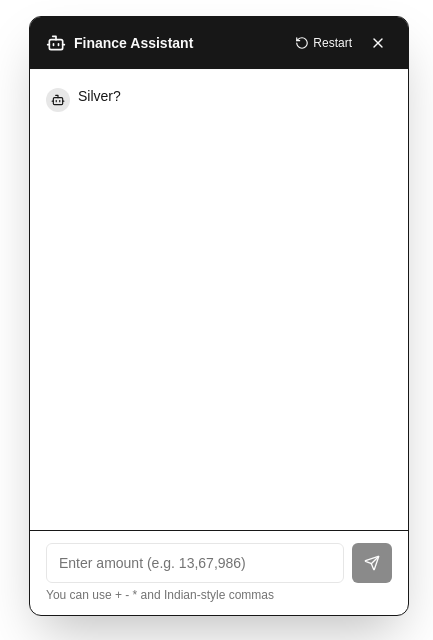
Scenario: FinanceAssistantChat US Stocks and Bonds steps › asks about US Stocks after Silver, then moves on to Mutual Funds
Expected: the text "Silver?" is shown, left=78, top=88, right=121, bottom=104
Type "50,000" into the field with placeholder "Enter amount (e.g. 13,67,986)".
click(195, 563); type("50,000")  # box left=46, top=543, right=344, bottom=583
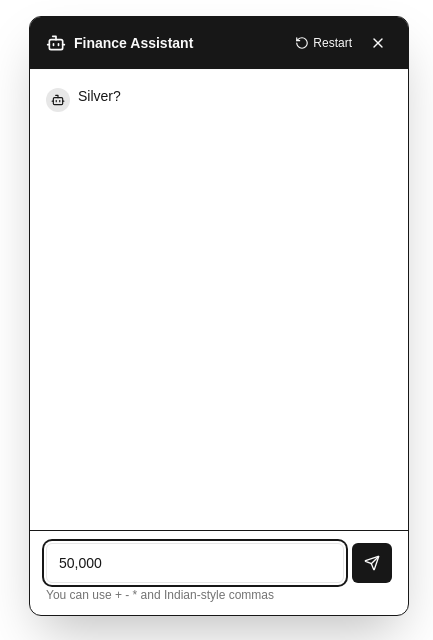
Press Enter
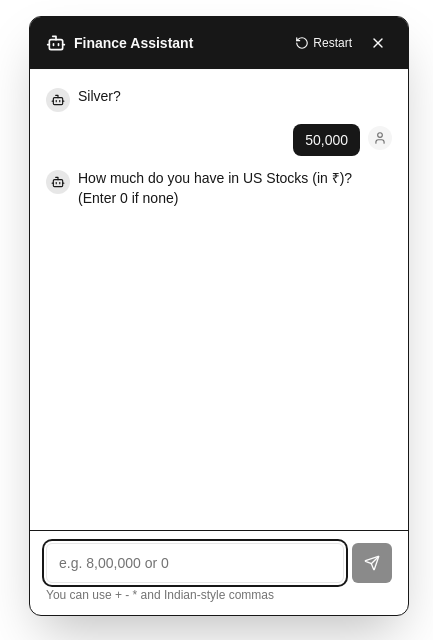
Expected: the text "How much do you have in US Stocks (in ₹)? (Enter 0 if none)" is shown, left=78, top=168, right=392, bottom=208
Type "2,50,000" into the field with placeholder "e.g. 8,00,000 or 0".
click(195, 563); type("2,50,000")  # box left=46, top=543, right=344, bottom=583
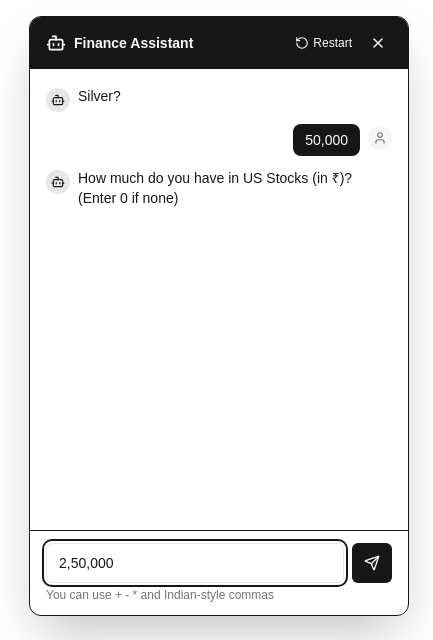
Press Enter
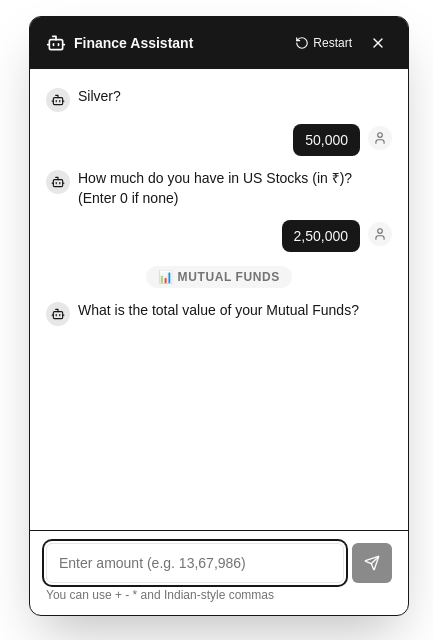
Expected: the text "What is the total value of your Mutual Funds?" is shown, left=78, top=300, right=392, bottom=320
